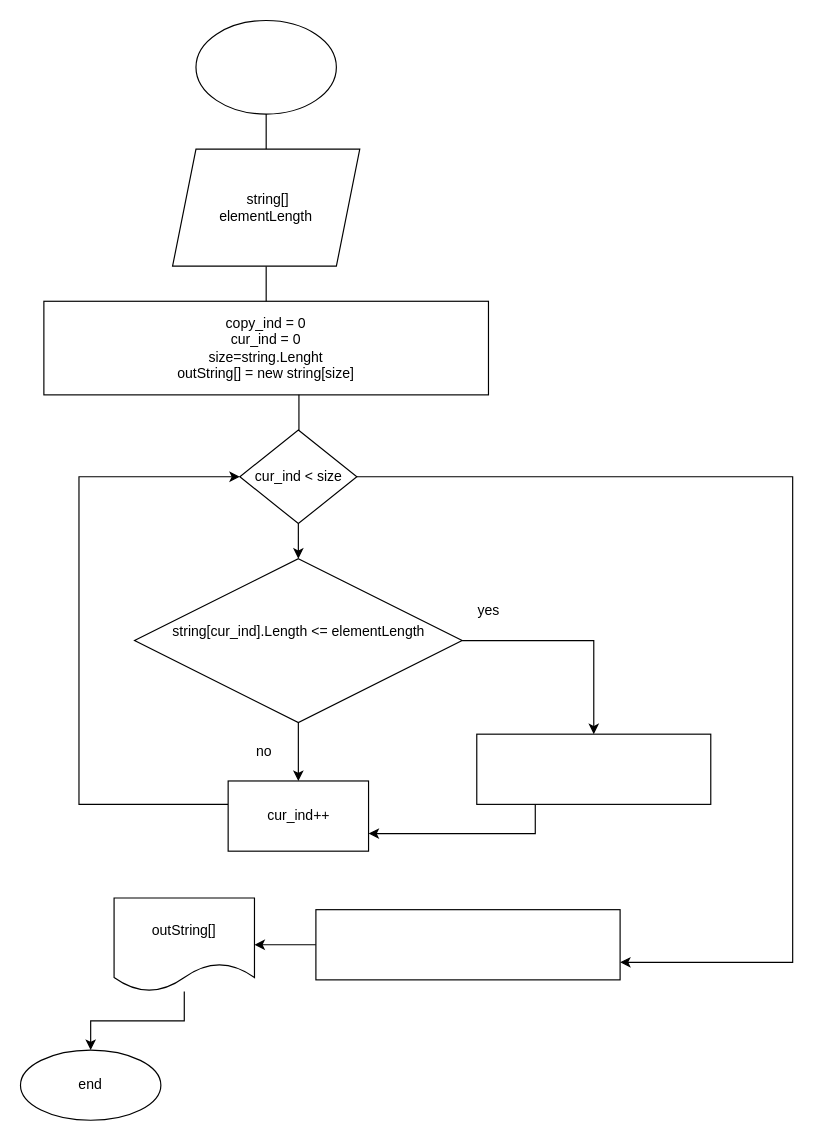
This 823x1141 diagram has some shape labels left out. The shapes that lost their labels are listed below. From the top down, each one's centre as x and y in pixels, then its label:
(265,66): start
(593,768): outString[copy_ind] = string[cur_ind] copy_ind++
(467,944): Array.Resize( outString, copy_ind)
